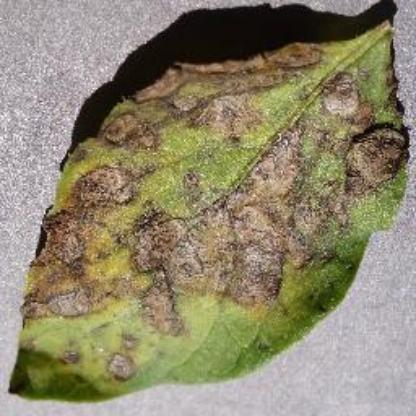Early-Blight: (12, 15, 408, 406)
